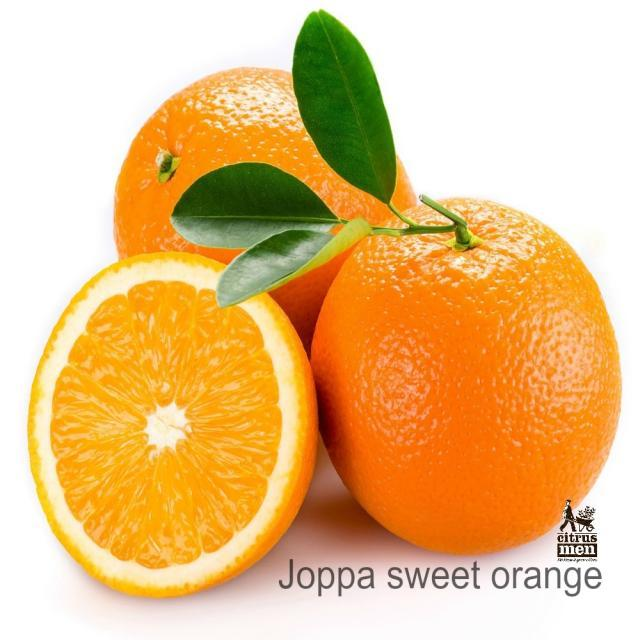Orange: (308, 194, 622, 555), (26, 249, 319, 598), (111, 65, 417, 345)
